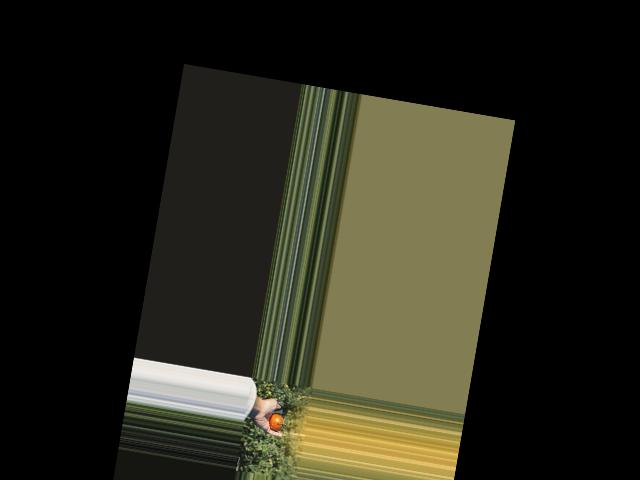tomato: (268, 413, 285, 432)
